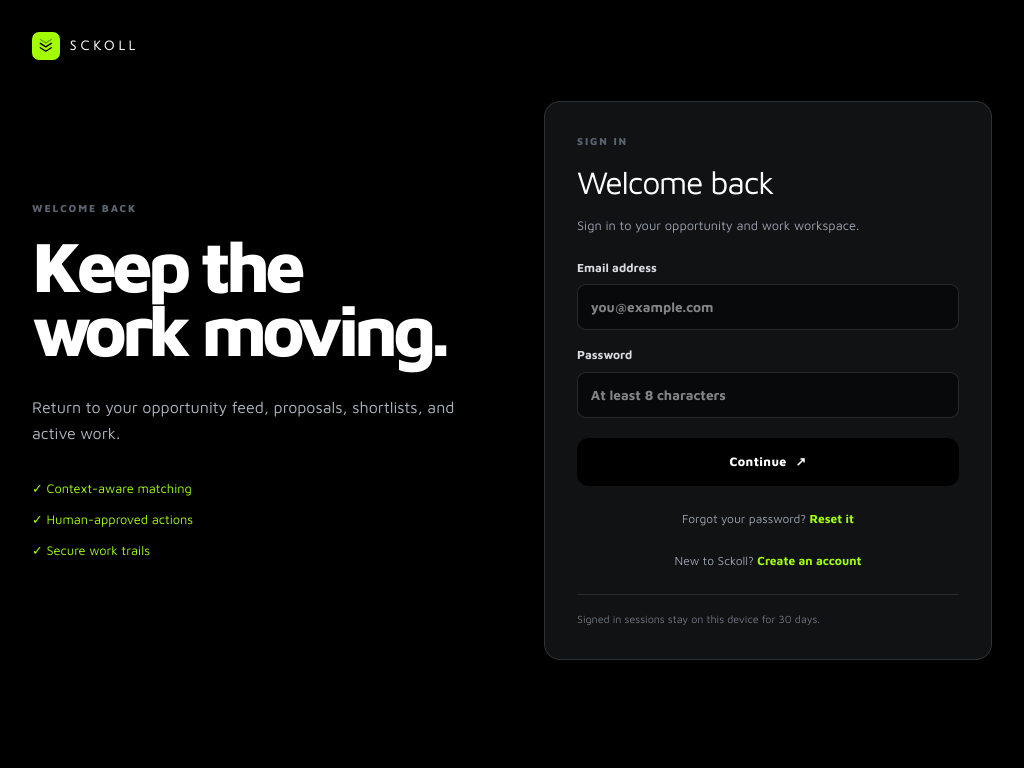
Test case: AuthPage (sign-in) › surfaces the server's rejection and does not navigate
Type "a@b.com" into the field with placeholder "you@example.com". click: (768, 307)
box: [577, 284, 959, 330]
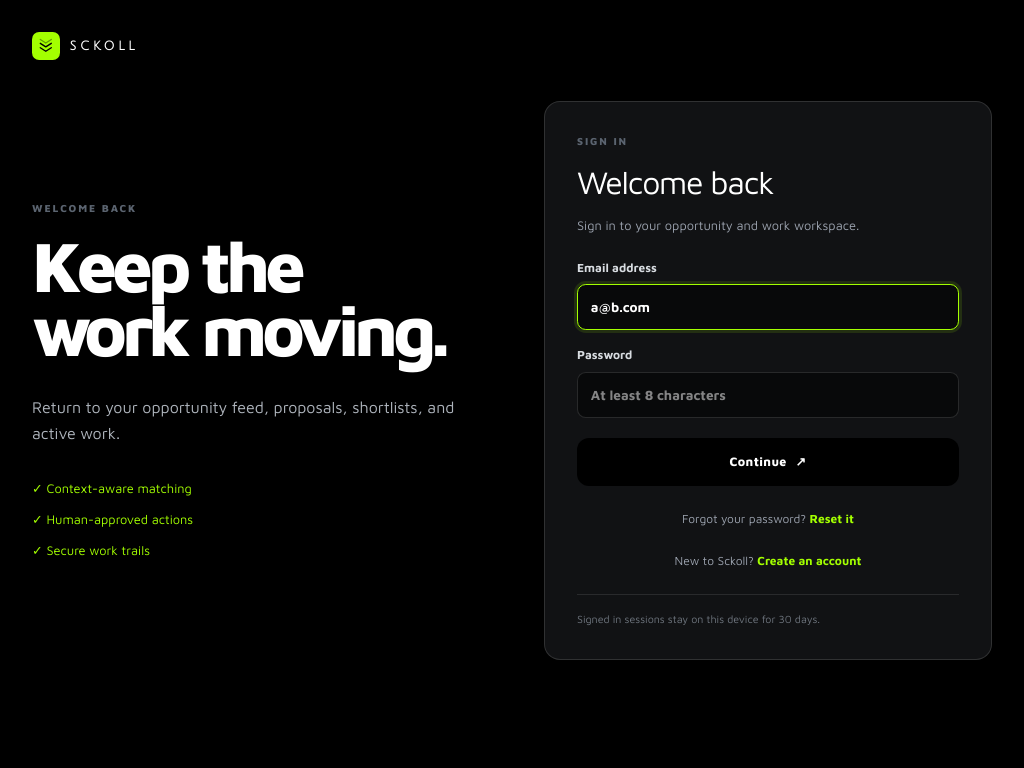
Type "wrongpass1" into the password field with placeholder "At least 8 characters". click: (768, 395)
box: [577, 372, 959, 418]
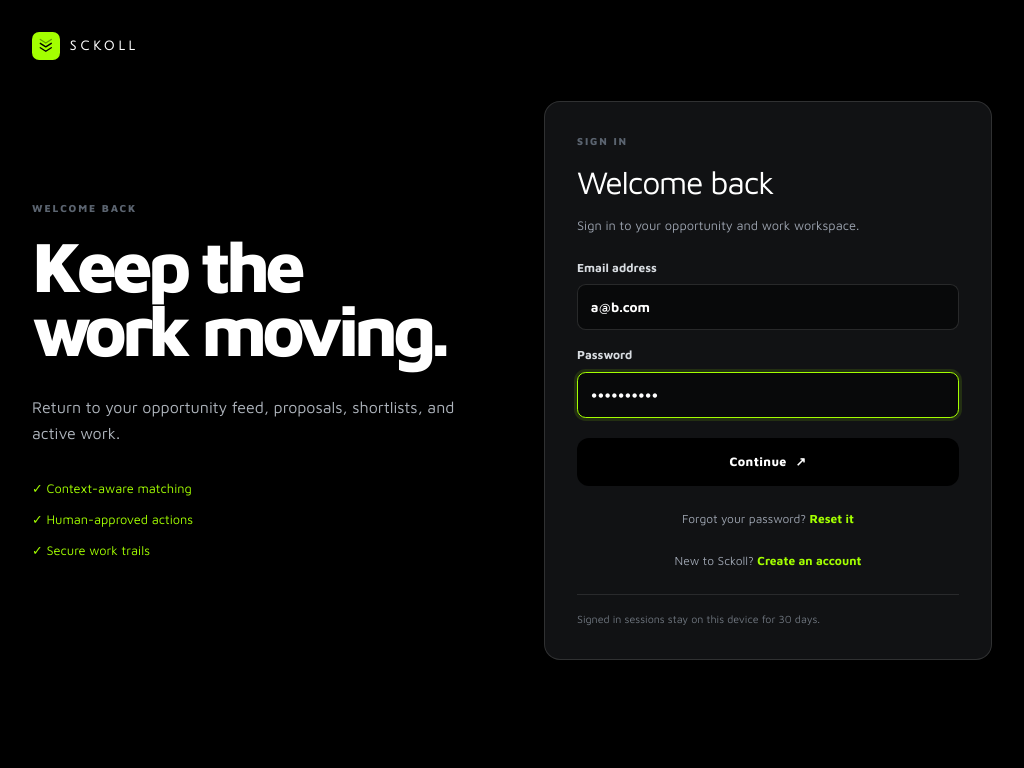
Click the button "Continue ↗". click: click(768, 462)
box: [577, 438, 959, 486]
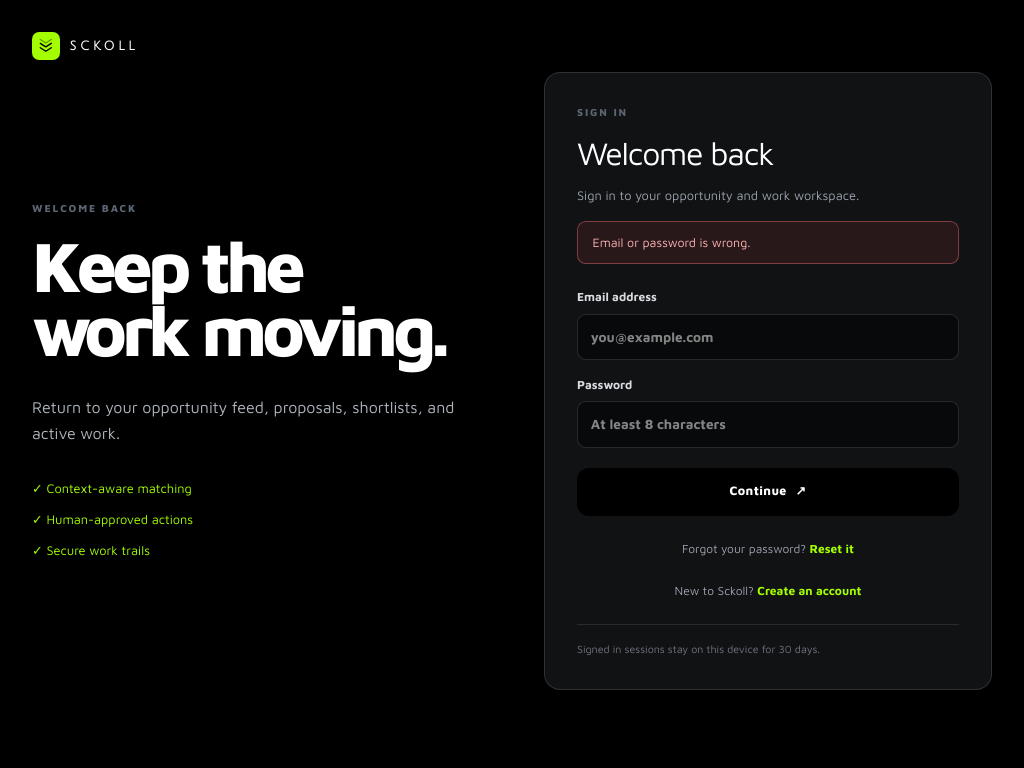
Check: the text "Email or password is wrong." is shown, box [577, 221, 959, 264]
